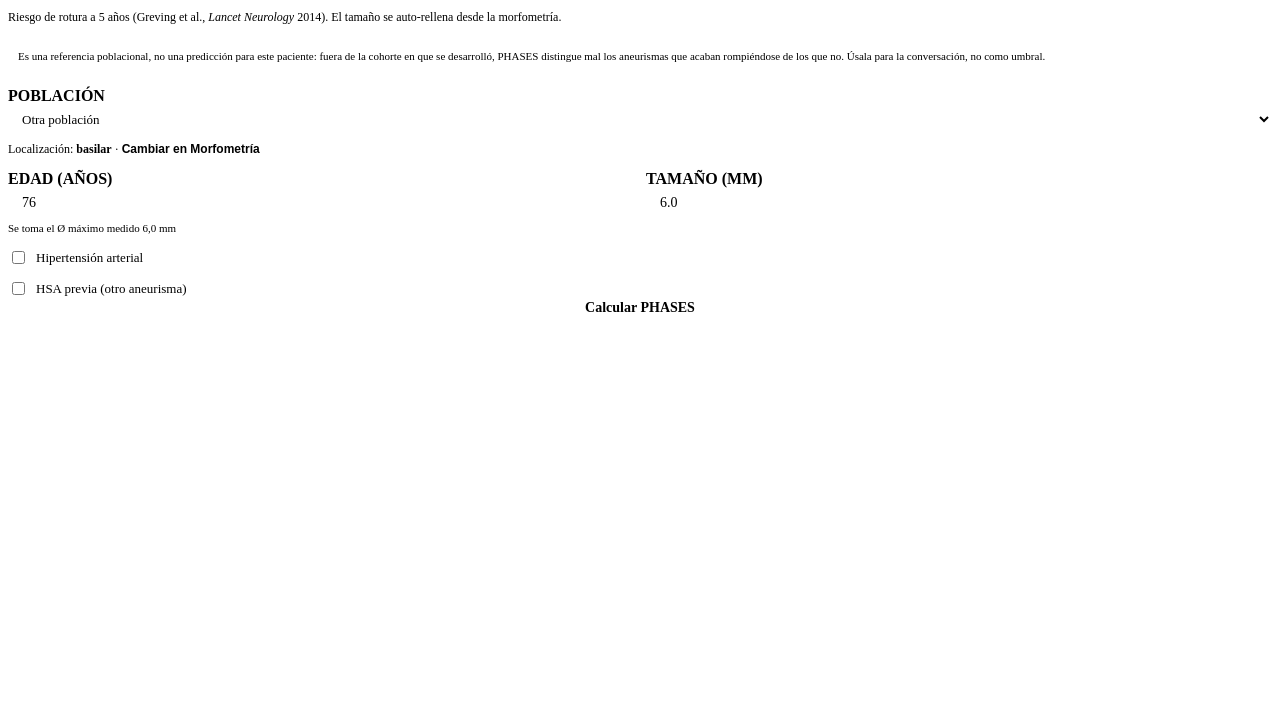
Test case: PHASES con la localización de Morfometría › con basilar suma +4 de localización sin tocar nada
Click the button "Calcular PHASES". click: [640, 308]
box: [8, 299, 1272, 317]
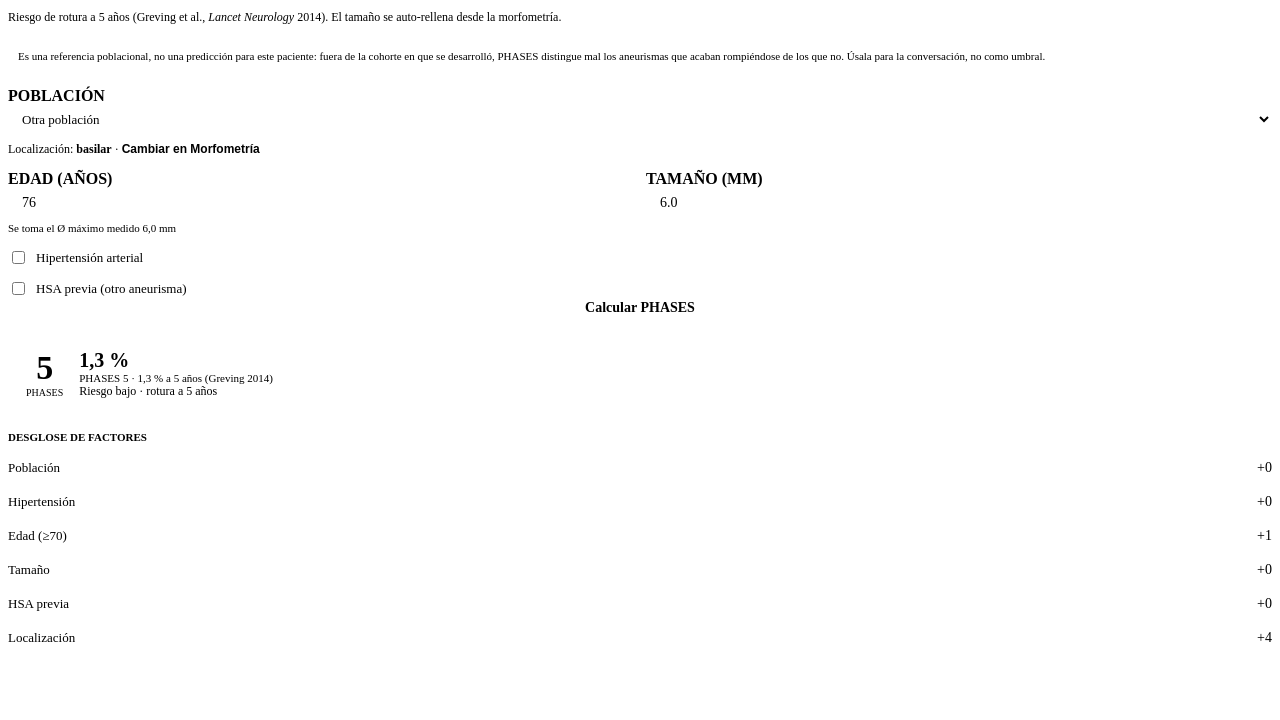
Check: the text "+4" is shown, box [1257, 630, 1272, 646]
